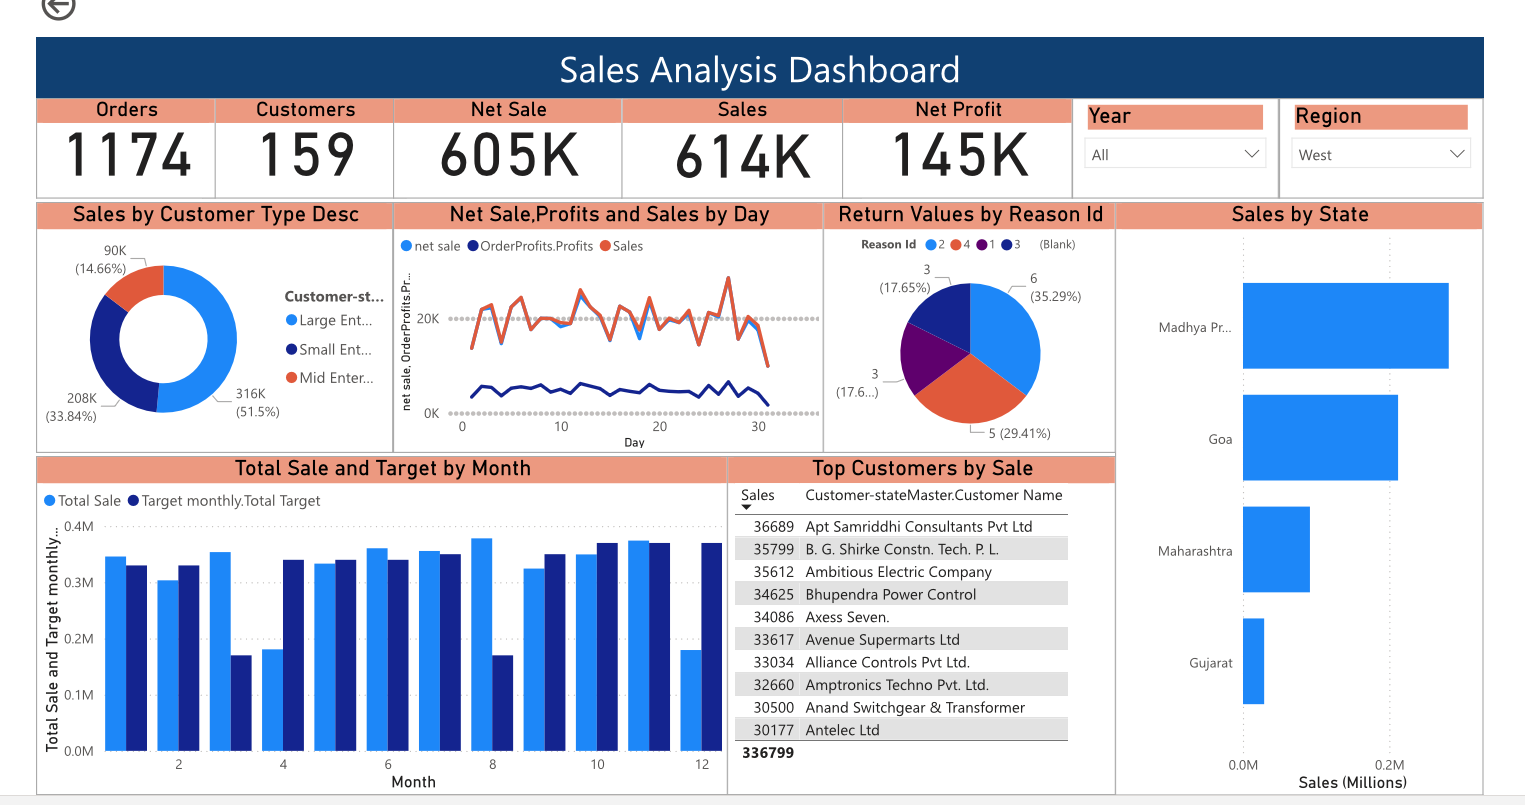

The page's visual inventory and layout, read from the dashboard file:
{"tool":"powerbi","page":{"name":"Page 1","canvas":[1280,720],"ordinal":0},"visuals":[{"type":"card","title":"Customers","fields":{"Values":["CountNonNull(Customer-stateMaster.Customer ID)"]},"box":[147.1,103.3,181.1,89.1],"z":0},{"type":"card","title":"Orders","fields":{"Values":["CountNonNull(ALL REGIONS SALES.Order ID)"]},"box":[0,103.3,158.4,89.1],"z":1000},{"type":"actionButton","box":[0,0,100,40],"z":2000},{"type":"card","fields":{"Values":["Sum(ALL REGIONS SALES.Return Values)"]},"box":[10,570,280,150],"z":3000},{"type":"card","title":"Sales","fields":{"Values":["Sum(ALL REGIONS SALES.Sales)"]},"box":[517.7,103.3,212.2,89.1],"z":4000},{"type":"card","title":"Net Profit","fields":{"Values":["Sum(ALL REGIONS SALES.net profit)"]},"box":[712.9,103.3,203.7,89.1],"z":5000},{"type":"card","title":"Net Sale","fields":{"Values":["Sum(ALL REGIONS SALES.net sale)"]},"box":[315.4,103.3,202.3,89.1],"z":6000},{"type":"donutChart","title":"Sales by Customer Type Desc","fields":{"Category":["ALL REGIONS SALES.Customer-stateMaster.Customer Type Desc"],"Y":["Sum(ALL REGIONS SALES.Sales)"]},"box":[0,195.2,315.4,222.1],"z":7000},{"type":"clusteredBarChart","title":"Sales by State","fields":{"Category":["ALL REGIONS SALES.Customer-stateMaster.StateMaster.State Name"],"Y":["Sum(ALL REGIONS SALES.Sales)"]},"box":[954.8,195.2,325.3,524.8],"z":8000},{"type":"pieChart","title":"Return Values by Reason Id","fields":{"Category":["ALL REGIONS SALES.Return Reason Id"],"Y":["Sum(ALL REGIONS SALES.Return Values)"]},"box":[696,195.2,258.9,222.1],"z":9000},{"type":"tableEx","title":"Top Customers by Sale","fields":{"Values":["Sum(ALL REGIONS SALES.Sales)","ALL REGIONS SALES.Customer-stateMaster.Customer Name"]},"box":[611.1,420.1,343.7,299.9],"z":10000},{"type":"clusteredColumnChart","title":"Total Sale and Target by Month","fields":{"Category":["Target vs SALES (2).Month"],"Y":["Sum(Target vs SALES (2).Total Sale)","Sum(Target vs SALES (2).Target monthly.Total Target)"]},"box":[0,420.1,611.1,299.9],"z":11000},{"type":"lineChart","title":"Net Sale,Profits and Sales by Day","fields":{"Category":["ALL REGIONS SALES.OrderDate.Variation.Date Hierarchy.Day"],"Y":["Sum(ALL REGIONS SALES.net sale)","Sum(ALL REGIONS SALES.OrderProfits.Profits)","Sum(ALL REGIONS SALES.Sales)"]},"box":[315.4,195.2,380.5,222.1],"z":12000},{"type":"slicer","fields":{"Values":["Target total.Year"]},"box":[916.6,103.3,182.5,89.1],"z":13000},{"type":"slicer","fields":{"Values":["ALL REGIONS SALES.Region"]},"box":[1099.1,103.3,181.1,89.1],"z":14000},{"type":"textbox","box":[0,49.5,1280.2,53.8],"z":15000}]}

Visuals, with their boxes on the page's 1280x720 design canvas (x1, y1, x2, y2). These are canvas units, not pixel positions in the 1525x805 screenshot, which may show the page scaled, cropped or inside an application window:
"Customers" card: 147/103/328/192
"Orders" card: 0/103/158/192
actionButton: 0/0/100/40
card - Sum(ALL REGIONS SALES.Return Values): 10/570/290/720
"Sales" card: 518/103/730/192
"Net Profit" card: 713/103/917/192
"Net Sale" card: 315/103/518/192
"Sales by Customer Type Desc" donutChart: 0/195/315/417
"Sales by State" clusteredBarChart: 955/195/1280/720
"Return Values by Reason Id" pieChart: 696/195/955/417
"Top Customers by Sale" tableEx: 611/420/955/720
"Total Sale and Target by Month" clusteredColumnChart: 0/420/611/720
"Net Sale,Profits and Sales by Day" lineChart: 315/195/696/417
slicer - Target total.Year: 917/103/1099/192
slicer - ALL REGIONS SALES.Region: 1099/103/1280/192
textbox: 0/50/1280/103
